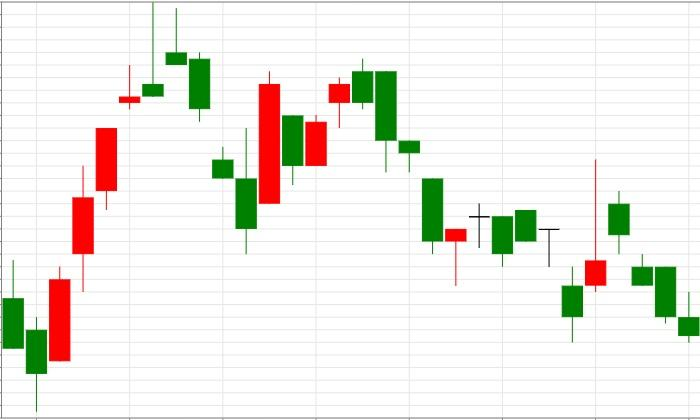hammer_rise: (352, 58, 468, 286)
shooting_star_fall: (26, 2, 187, 411)
three_black_crows_fall: (26, 2, 258, 411)
